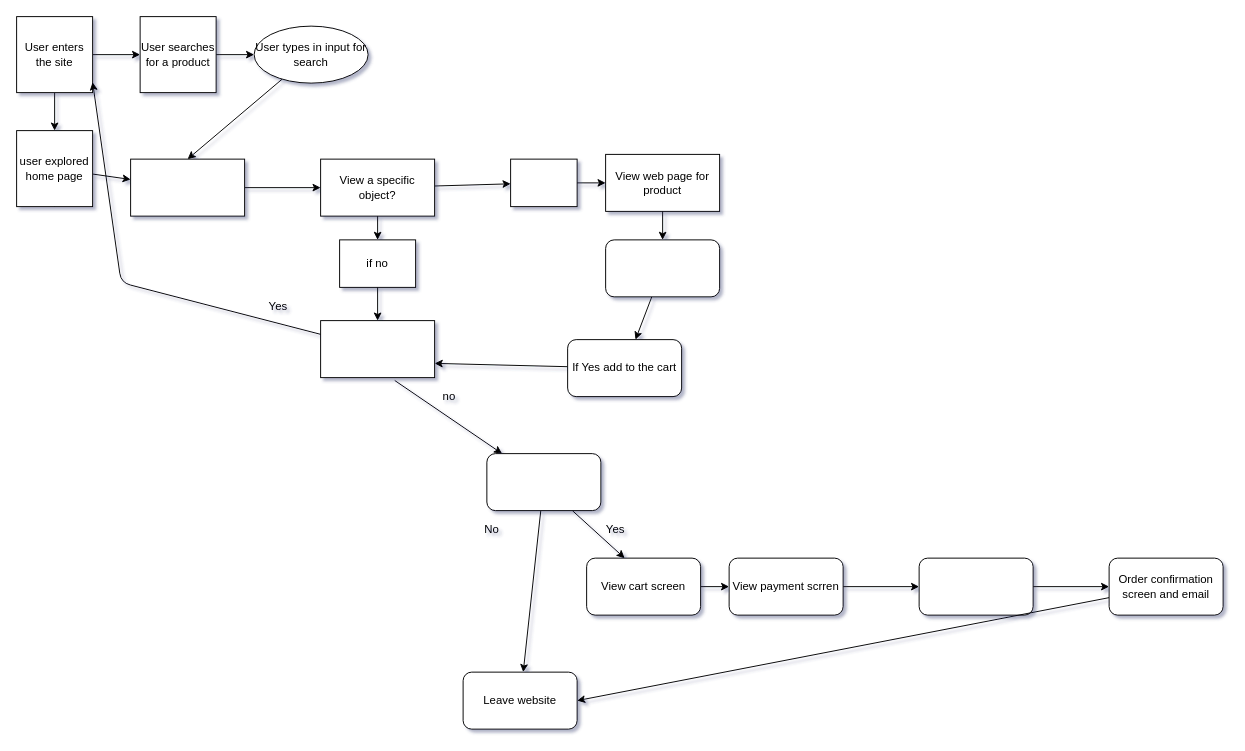
The diagram is 1245 pixels wide and 751 high, and some of its shapes have lost their labels. Each missing label, with the centre of its shape:
"Add to cart?" belongs at point 662,268.
"begin looking over products" belongs at point 187,187.
"Checkout?" belongs at point 543,482.
"Continue shopping?" belongs at point 377,349.
"Get payment into" belongs at point 975,586.
"if Yes" belongs at point 543,182.
